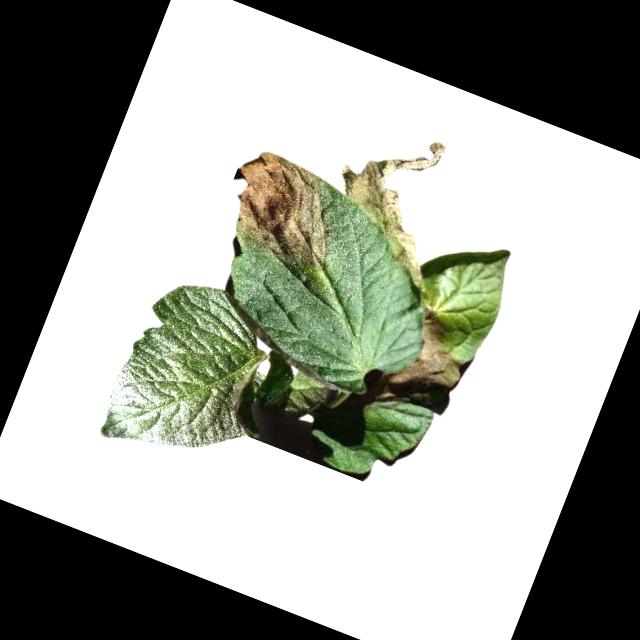Late_blight: (314, 113, 471, 290), (208, 142, 355, 277), (365, 295, 479, 424)
healthy: (90, 263, 293, 486)
